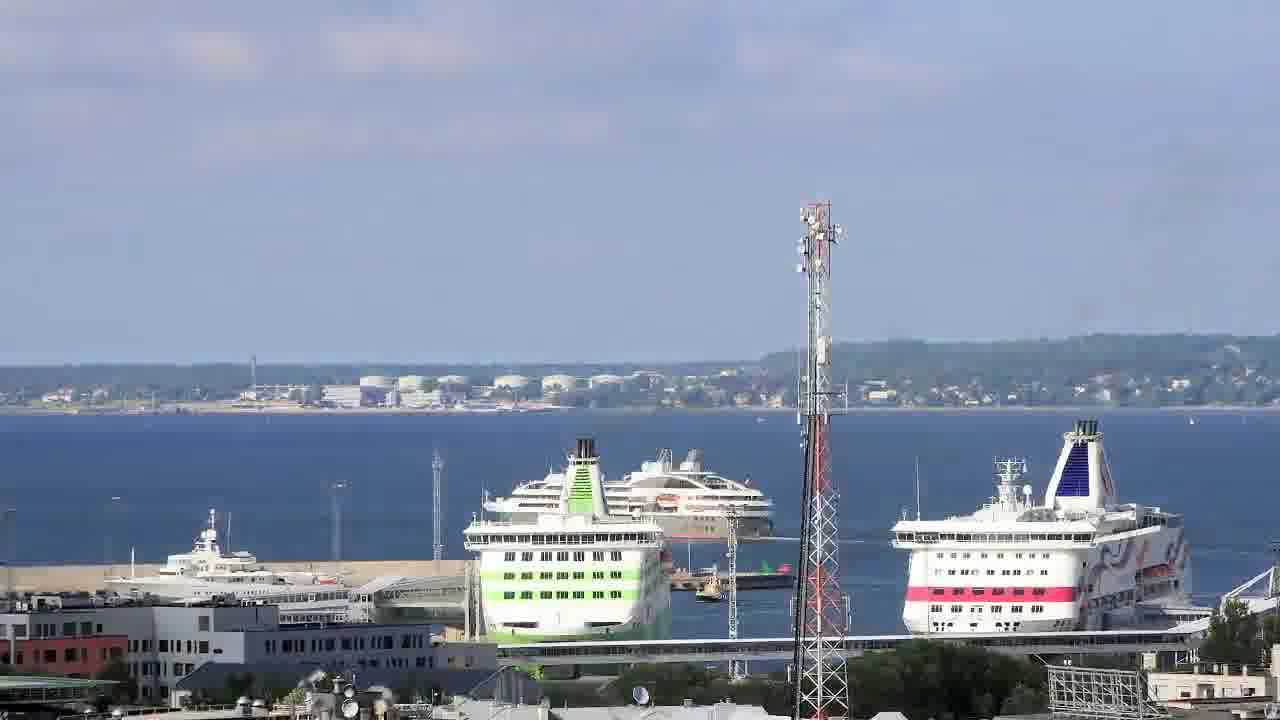type-0: (689, 557, 742, 609)
type-3: (868, 415, 1225, 638), (436, 434, 694, 670), (83, 506, 365, 615), (477, 448, 783, 543)
